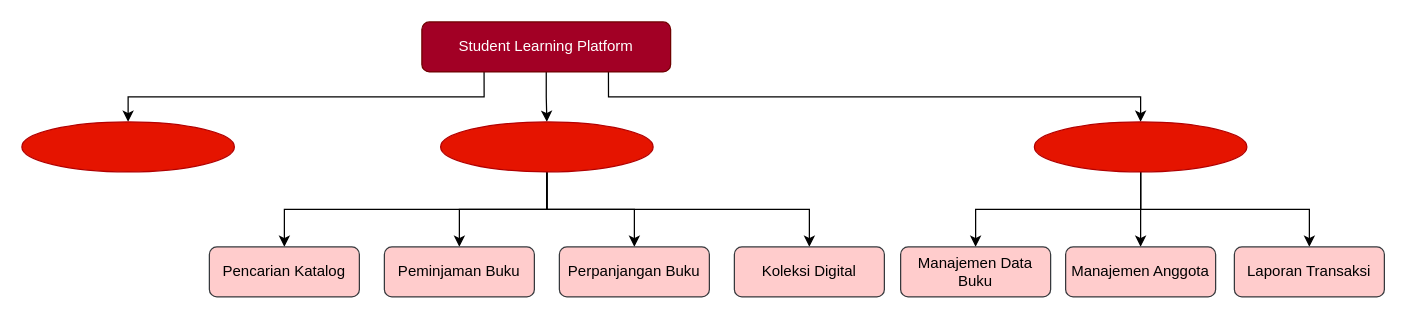
Some shapes in this 1406 by 319 pixel diagram are drawn without their labels. The shapes that lost their labels are listed below. From the top down, each one's box as (x1, y1, x2, y2) in pixels, then its label:
(21, 121, 234, 172): Modul Autentikasi
(439, 121, 653, 172): Modul Perpustakaan
(1033, 121, 1247, 172): Modul Pengolahan
